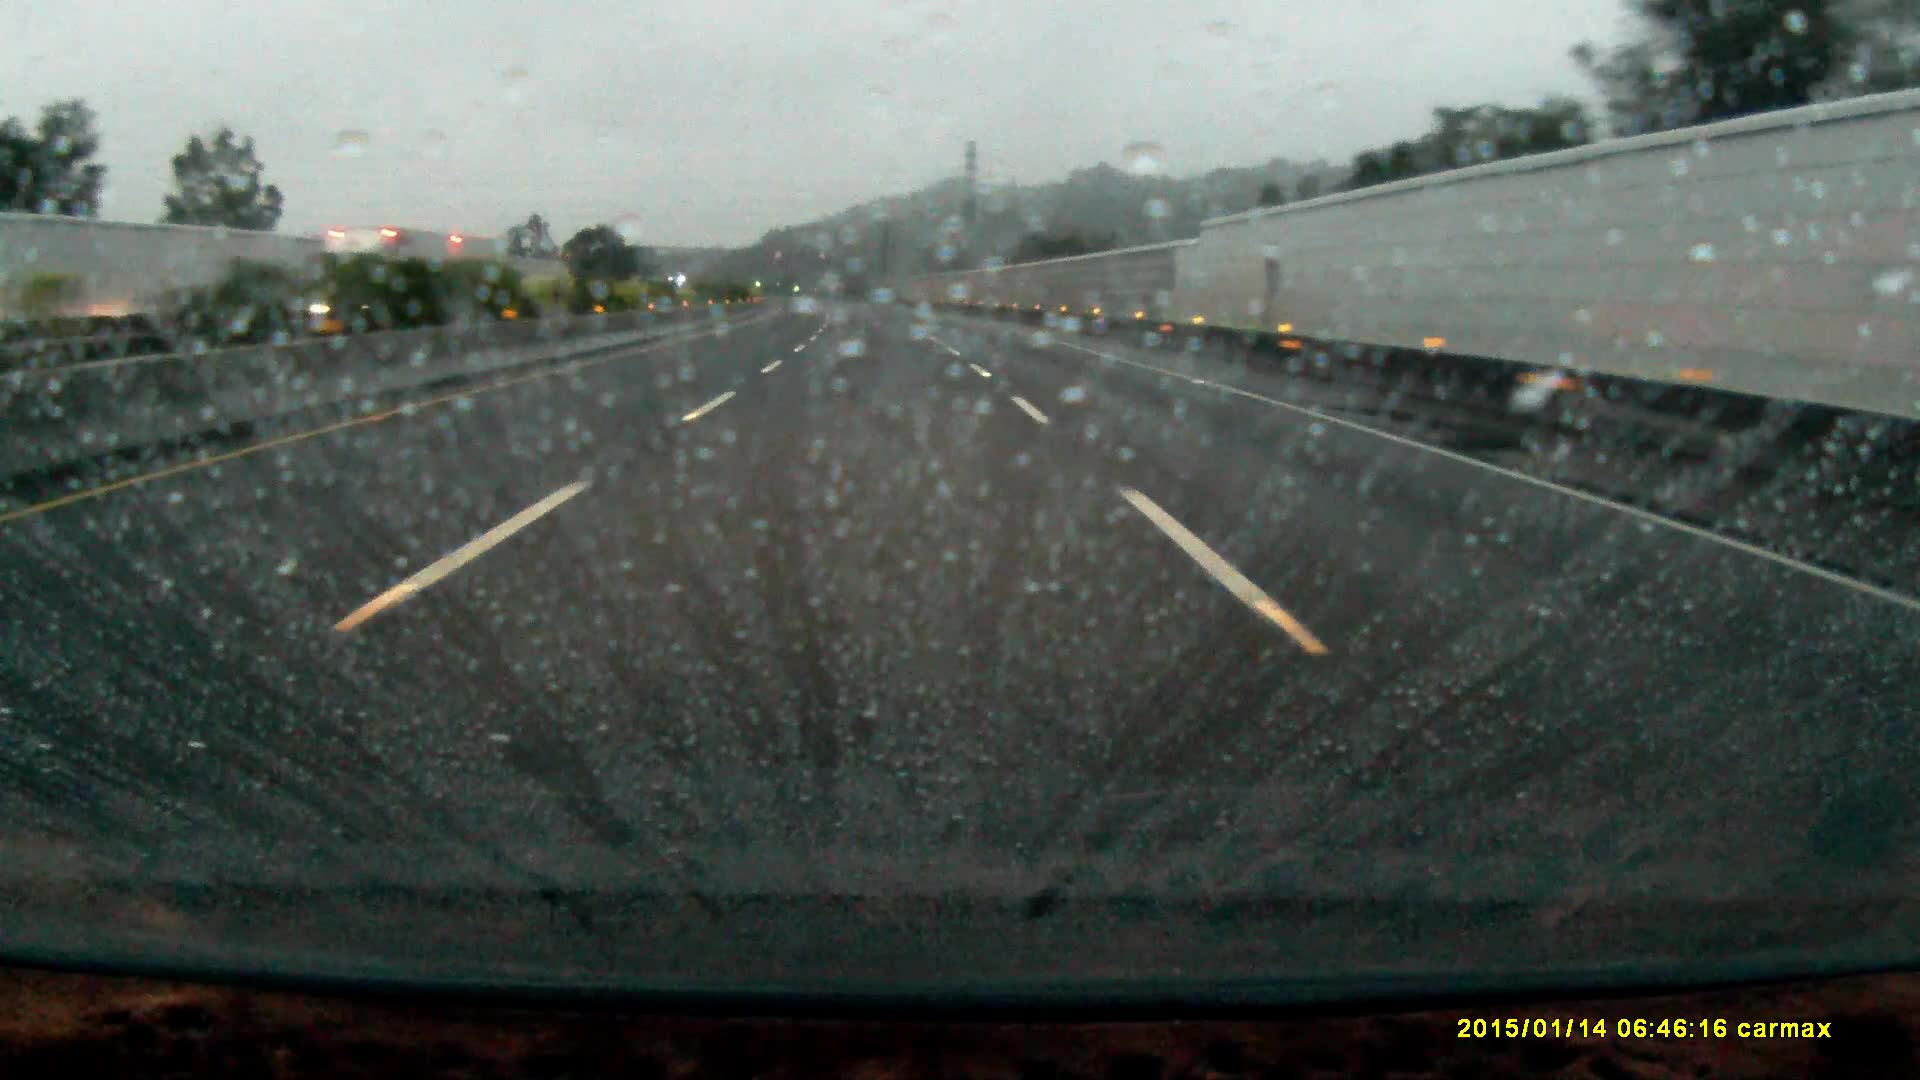vehicle: (305, 227, 498, 324)
